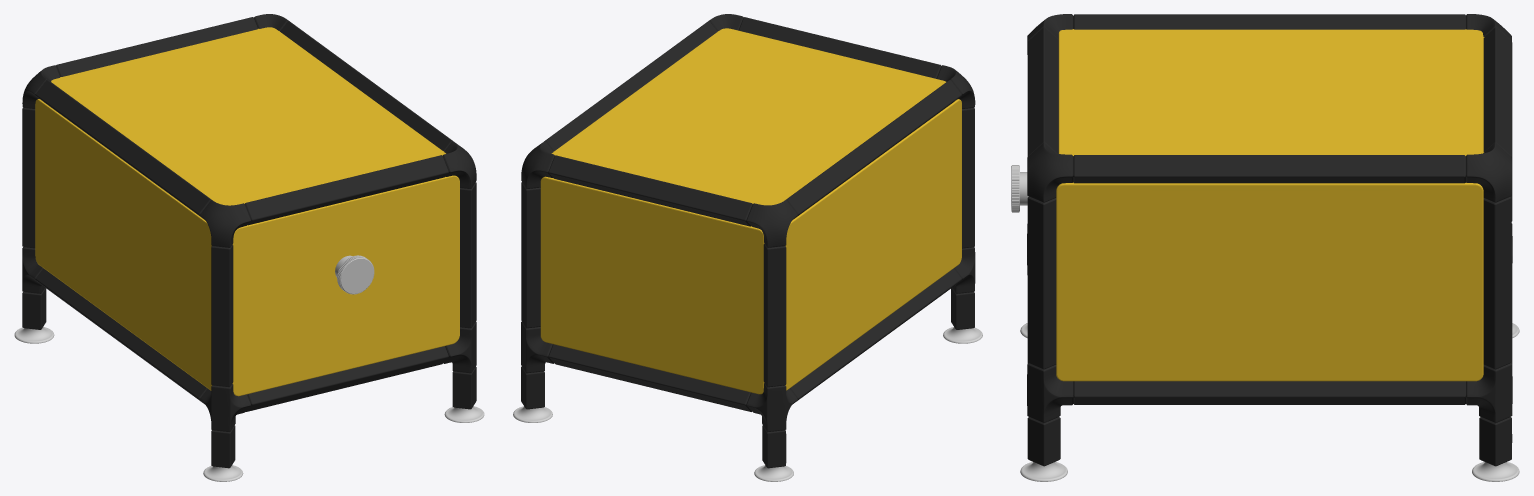
3 views of the same model, side by side, from view 1: azimuth 30°, elevation 25°; view 2: azimuth 150°, elevation 25°; view 3: azimuth 270°, elevation 25° (orthographic). The views are drawn at different scales.
Visible parts, largest first — view 1: 229x329x154; view 2: 229x329x154; view 3: 229x329x154.
Boxes of the visible parts, box(x1,y1,x2,y2) form: 229x329x154: box(14, 14, 484, 481); 229x329x154: box(513, 14, 982, 481); 229x329x154: box(1011, 14, 1519, 481).
Bounding box in the file's own units: 0.3189 × 0.2933 × 0.4257.
